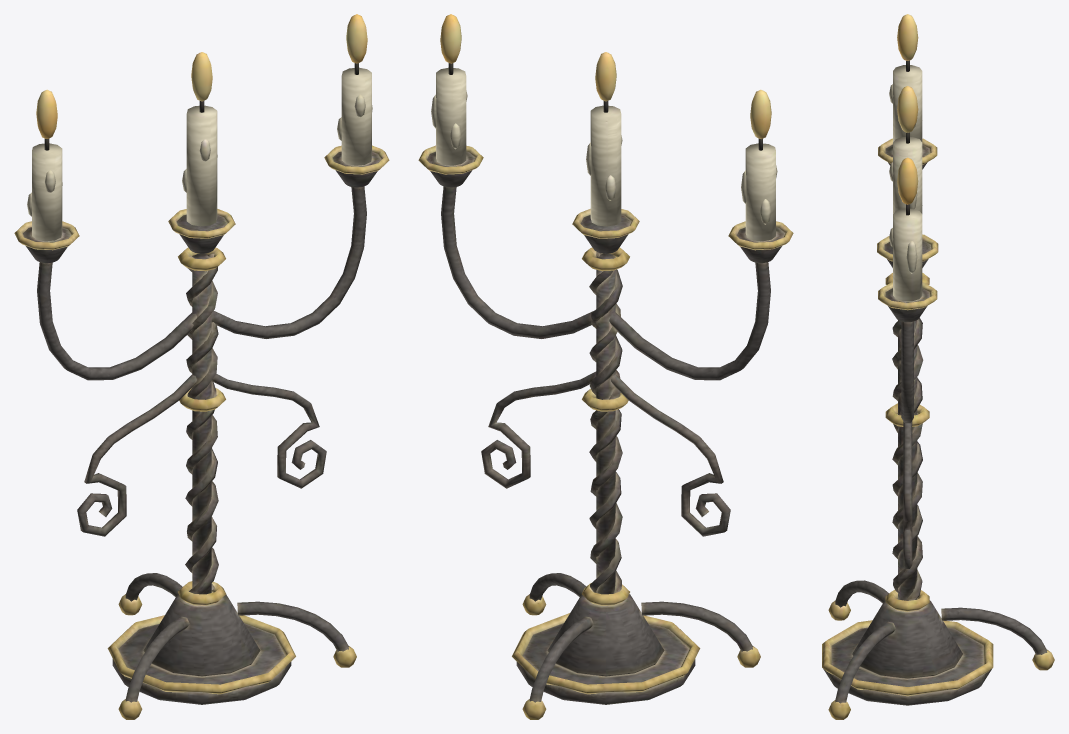
File: candelabra.glb
3 renders of one model, left to right at view 1: azimuth 30°, elevation 25°; view 2: azimuth 150°, elevation 25°; view 3: azimuth 270°, elevation 25°, orthographic. The views are drawn at different scales.
Parts seen in each view (by area): view 1: candelabra; view 2: candelabra; view 3: candelabra.
Boxes of the visible parts, x1,y1,x2,y2 form: candelabra: (14, 14, 389, 719); candelabra: (418, 14, 793, 719); candelabra: (822, 14, 1054, 719).
Size of the model in its own units: 0.8088 by 1.3 by 0.4684.
1 material, 1 textured.
